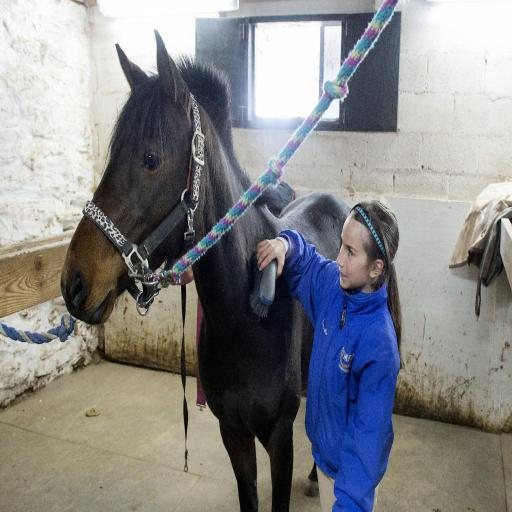Horse: (61, 31, 407, 509)
